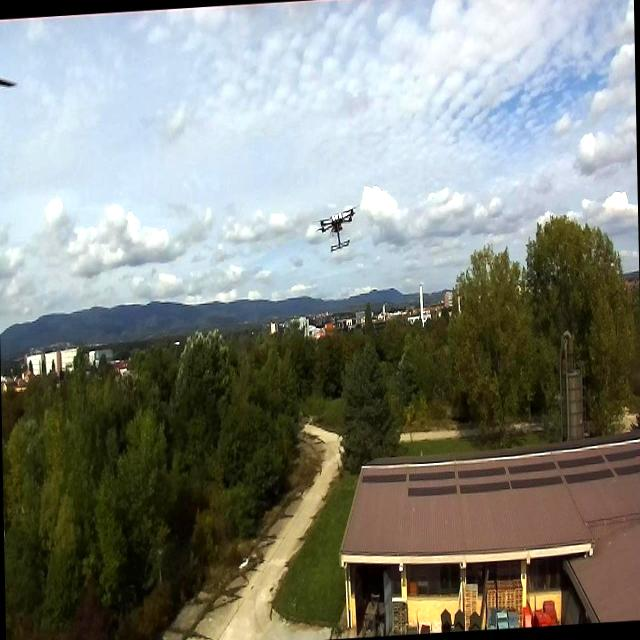drone: (318, 203, 356, 257)
